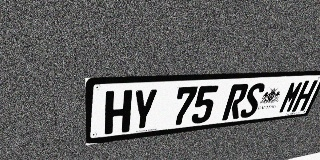5: (190, 85, 219, 124)
7: (170, 86, 198, 127)
H: (104, 90, 133, 135), (291, 80, 318, 112)
M: (278, 81, 305, 114)
R: (222, 84, 250, 120)
S: (239, 83, 267, 118)
Y: (130, 88, 158, 132)
